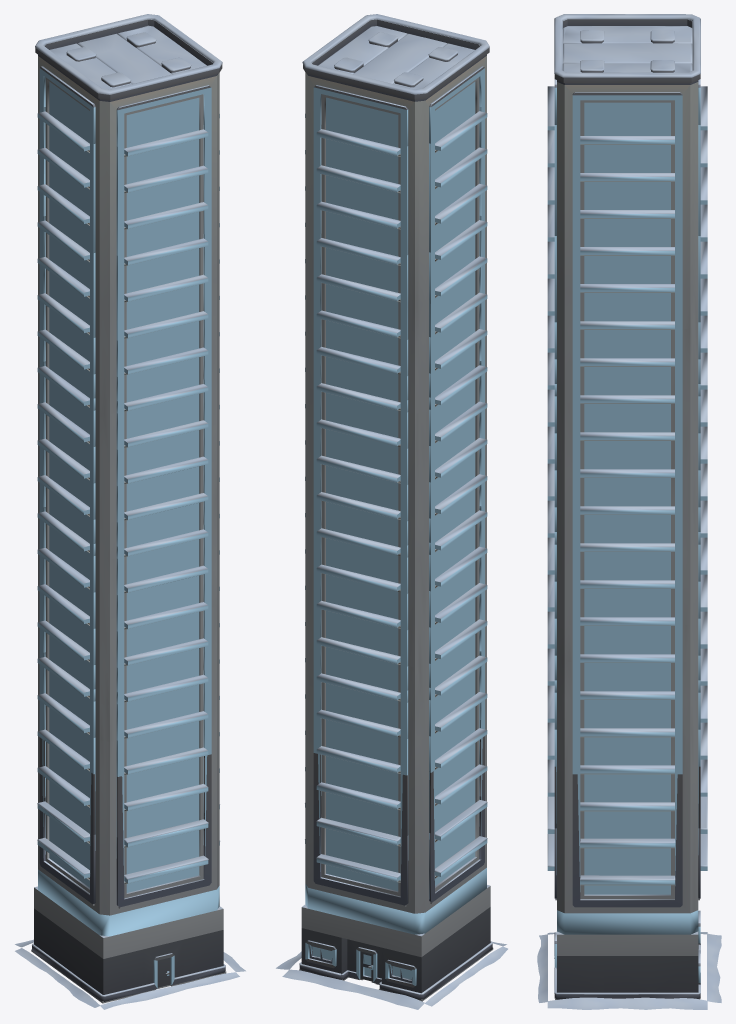
File: tower_b.glb
3 renders of one model, left to right at view 1: azimuth 30°, elevation 25°; view 2: azimuth 150°, elevation 25°; view 3: azimuth 270°, elevation 25°, orthographic. The views are drawn at different scales.
Parts seen in each view (by area): view 1: Base, Shaft_3, Shaft_2, Shaft_1, Shaft_0, Shaft_4, Roof; view 2: Base, Shaft_0, Shaft_1, Shaft_3, Shaft_2, Shaft_4, Roof; view 3: Base, Shaft_0, Shaft_1, Shaft_2, Shaft_3, Shaft_4, Roof.
Boxes of the visible parts, x1,y1,x2,y2 form: Base: (15,792,245,1009); Shaft_3: (37,210,219,401); Shaft_2: (37,356,219,547); Shaft_1: (37,501,219,692); Shaft_0: (37,647,219,838); Shaft_4: (37,101,219,256); Roof: (35,14,222,147); Base: (276,791,507,1009); Shaft_0: (305,645,487,836); Shaft_1: (305,500,487,691); Shaft_3: (305,210,487,401); Shaft_2: (305,355,487,546); Shaft_4: (305,101,487,255); Roof: (302,14,489,147); Base: (537,796,721,1009); Shaft_0: (547,648,707,835); Shaft_1: (547,500,707,687); Shaft_2: (547,352,707,539); Shaft_3: (547,204,707,391); Shaft_4: (547,86,707,243); Roof: (554,14,700,132).
Size of what is drawn, in the model's own units: 17.35 by 95.09 by 17.17.
